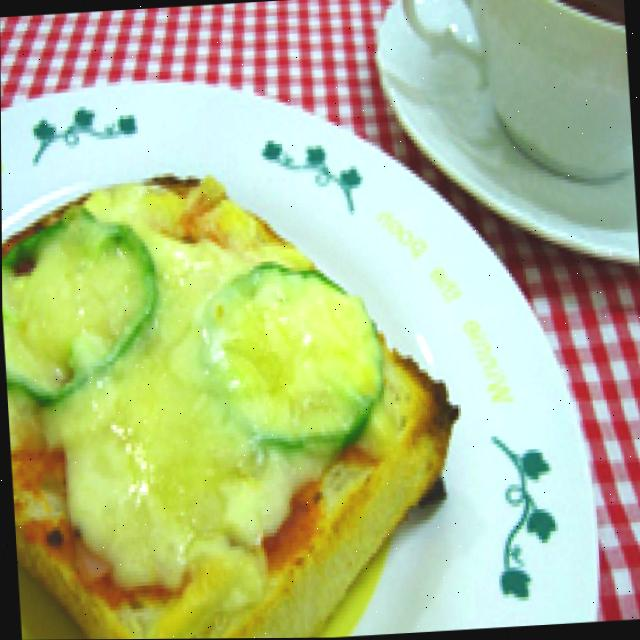面包点心: (1, 106, 475, 640)
